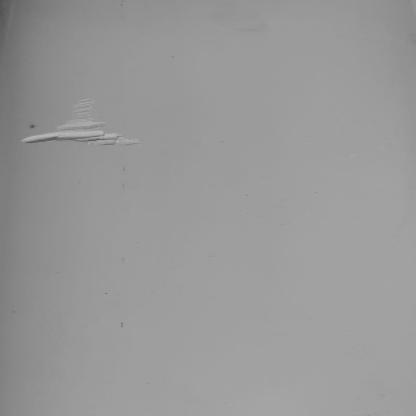sunshang: (19, 95, 146, 151)
